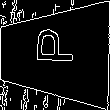P_W: (31, 35, 79, 73)
